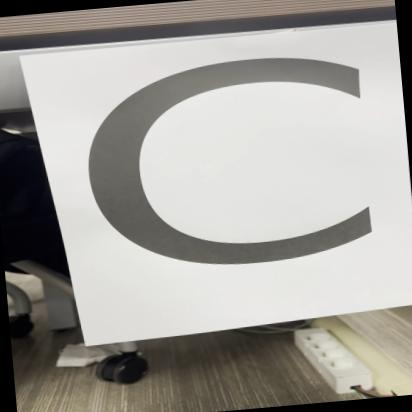seat: (22, 30, 412, 334)
